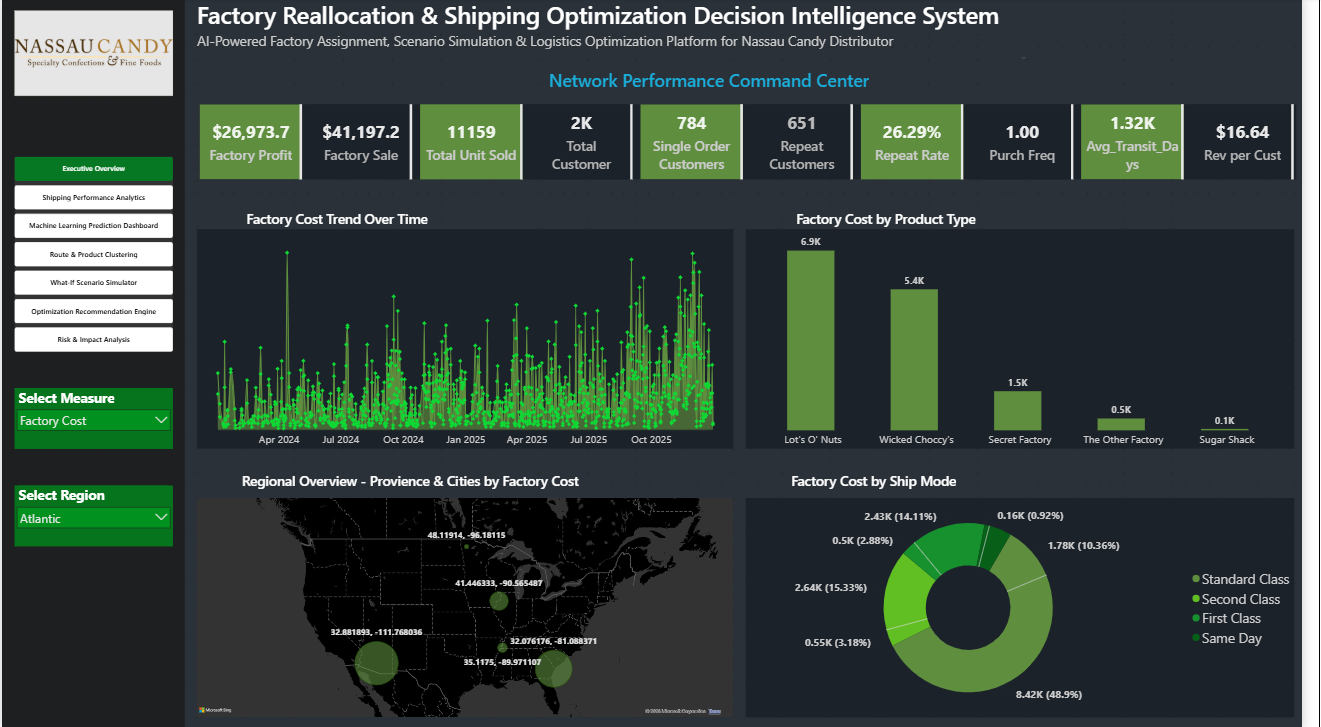

This screenshot's page, from the dashboard's own definition file:
{"tool":"powerbi","page":{"name":"Executive Overview","canvas":[2560,1440],"ordinal":0},"visuals":[{"type":"shape","box":[0,0,360,1440],"z":0},{"type":"textbox","title":"Factory Reallocation & Shipping Optimization Decision Intelligence System","box":[384,0,1632,120],"z":1000},{"type":"cardVisual","fields":{"Data":["Calendar.Gross Profit","Calendar.Net Sale","Calendar.Total Unit Sold","DAX Measures.Total Customer","DAX Measures.Single Order Customers","DAX Measures.Repeat Customers","DAX Measures.Repeat Rate","DAX Measures.Purchase Frequency","DAX Measures.Avg Transit Days","DAX Measures.Average Revenue per Customer"]},"box":[390,208,2160,148],"z":2000},{"type":"slicer","fields":{"Values":["Select Measure.Select Measure"]},"box":[24,768,312,120],"z":3000},{"type":"cardVisual","fields":{"Data":["Calendar.Map Title"]},"box":[384,912,840,72],"z":4000},{"type":"areaChart","fields":{"Category":["Nassau Candy Distributor.Order Date"],"Y":["Sum(Nassau Candy Distributor.Transit Days)"],"Y2":["DAX Measures.Factory Cost"]},"box":[384,456,1056,432],"z":5000},{"type":"cardVisual","fields":{"Data":["Select Measure.Trend Title"]},"box":[384,408,552,48],"z":6000},{"type":"clusteredColumnChart","fields":{"Category":["Factory Coordinates.Factory"],"Y":["DAX Measures.Factory Cost"]},"box":[1464,456,1080,432],"z":7000},{"type":"cardVisual","fields":{"Data":["Select Measure.Product Type"]},"box":[1464,408,552,48],"z":8000},{"type":"image","box":[24,24,312,168],"z":9000},{"type":"pageNavigator","box":[24,312,312,384],"z":10000},{"type":"donutChart","fields":{"Category":["Nassau Candy Distributor.Ship Mode"],"Y":["CountNonNull(Nassau Candy Distributor.Product Name)","DAX Measures.Factory Cost"]},"box":[1464,984,1080,432],"z":11000},{"type":"cardVisual","fields":{"Data":["Select Measure.Shipped Mode"]},"box":[1464,912,504,72],"z":12000},{"type":"cardVisual","fields":{"Data":["Select Measure.First_Page"]},"box":[928,128,928,64],"z":13000},{"type":"map","fields":{"Size":["DAX Measures.Factory Sale"],"X":["Factory Coordinates.Factory Longitude"],"Y":["Factory Coordinates.Factory Latitude"]},"box":[384,984,1056,432],"z":14000},{"type":"slicer","fields":{"Values":["Nassau Candy Distributor.Region","Nassau Candy Distributor.Country","Nassau Candy Distributor.State/Province","Nassau Candy Distributor.City"]},"box":[24,960,312,120],"z":15000}]}

Visuals, with their boxes on the page's 2560x1440 design canvas (x1, y1, x2, y2). These are canvas units, not pixel positions in the 1321x727 screenshot, which may show the page scaled, cropped or inside an application window:
shape: 0,0,360,1440
"Factory Reallocation & Shipping Optimization Decision Intelligence System" textbox: 384,0,2016,120
cardVisual - Calendar.Gross Profit x Calendar.Net Sale: 390,208,2550,356
slicer - Select Measure.Select Measure: 24,768,336,888
cardVisual - Calendar.Map Title: 384,912,1224,984
areaChart - Nassau Candy Distributor.Order Date x Sum(Nassau Candy Distributor.Transit Days): 384,456,1440,888
cardVisual - Select Measure.Trend Title: 384,408,936,456
clusteredColumnChart - Factory Coordinates.Factory x DAX Measures.Factory Cost: 1464,456,2544,888
cardVisual - Select Measure.Product Type: 1464,408,2016,456
image: 24,24,336,192
pageNavigator: 24,312,336,696
donutChart - Nassau Candy Distributor.Ship Mode x CountNonNull(Nassau Candy Distributor.Product Name): 1464,984,2544,1416
cardVisual - Select Measure.Shipped Mode: 1464,912,1968,984
cardVisual - Select Measure.First_Page: 928,128,1856,192
map - DAX Measures.Factory Sale x Factory Coordinates.Factory Longitude: 384,984,1440,1416
slicer - Nassau Candy Distributor.Region x Nassau Candy Distributor.Country: 24,960,336,1080
